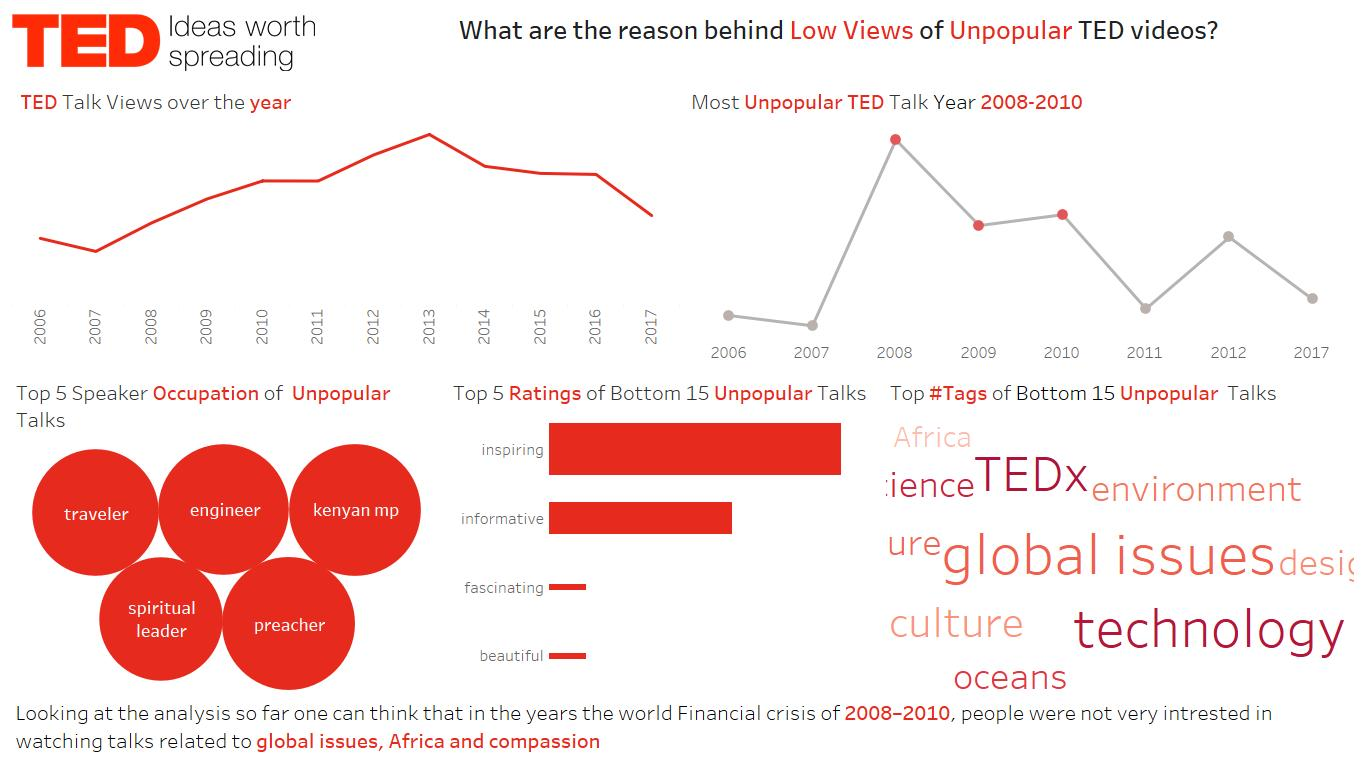

What the dashboard file says about the page in this screenshot:
{"tool":"tableau","page":{"name":"Dashboard 3","canvas":[1366,768],"ordinal":2},"visuals":[{"type":"image","param":"C:/Users/smrit/Desktop/tableu Project/TED Talk EDA/Tableau WB/TedTalk_GRP3.twb F","box":[8,8,311.4,69.1]},{"type":"text","box":[319.4,8,1038.6,43]},{"type":"worksheet","title":"year trend over all","mark":"Line","rows":["views"],"cols":["published_date"],"box":[8,77.1,675,290.6]},{"type":"worksheet","title":"bottom ted year","mark":"Line","rows":["views"],"cols":["published_date"],"box":[683,77.1,675,290.6]},{"type":"worksheet","title":"oct","mark":"Automatic","rows":["speaker_occupation"],"cols":["Views_t (copy)_2478105715516063744"],"box":[8,367.7,437,326.1]},{"type":"worksheet","title":"rating unpop","mark":"Bar","rows":["maximum-rated"],"cols":["maximum-rated"],"box":[445,367.7,437,326.1]},{"type":"worksheet","title":"tag unpop","mark":"Text","box":[882,367.7,476,326.1]},{"type":"text","box":[8,693.8,1350,64]}]}

Visuals, with their boxes in screenshot pixels (x1, y1, x2, y2), scaled from the page's 1366x768 canvas onto the 1366x768 screenshot:
image: [8,8,319,77]
text: [319,8,1358,51]
"year trend over all" worksheet (Line marks): [8,77,683,368]
"bottom ted year" worksheet (Line marks): [683,77,1358,368]
"oct" worksheet: [8,368,445,694]
"rating unpop" worksheet (Bar marks): [445,368,882,694]
"tag unpop" worksheet (Text marks): [882,368,1358,694]
text: [8,694,1358,758]
